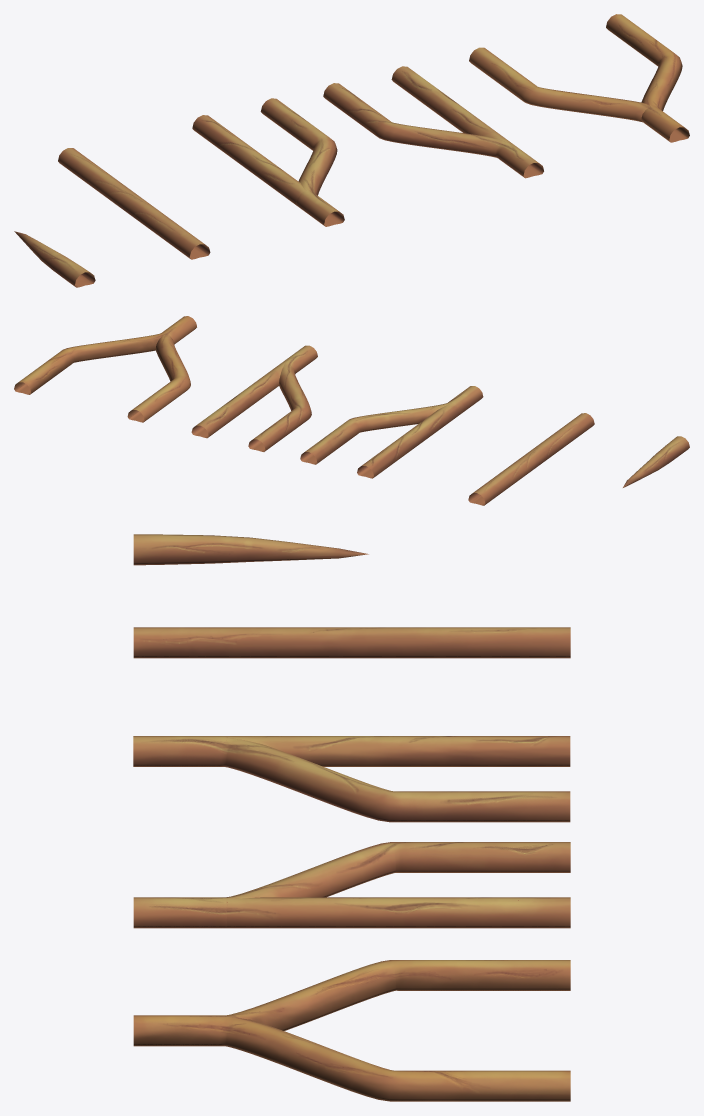
Rendered from Roots.fbx.
3 views of the same model, one above another, from view 1: azimuth 30°, elevation 25°; view 2: azimuth 150°, elevation 25°; view 3: azimuth 270°, elevation 25° (orthographic). The views are drawn at different scales.
Visible parts, largest first — view 1: BezierCurve.013, BezierCurve.003, BezierCurve.002, BezierCurve.001, BezierCurve.005; view 2: BezierCurve.013, BezierCurve.002, BezierCurve.003, BezierCurve.001, BezierCurve.005; view 3: BezierCurve.013, BezierCurve.003, BezierCurve.002, BezierCurve.001, BezierCurve.005.
Boxes of the visible parts, <box> form: BezierCurve.013: <box>469,14,689,142</box>; BezierCurve.003: <box>323,66,543,178</box>; BezierCurve.002: <box>192,98,344,226</box>; BezierCurve.001: <box>58,148,210,259</box>; BezierCurve.005: <box>14,231,95,287</box>; BezierCurve.013: <box>14,316,196,422</box>; BezierCurve.002: <box>300,386,483,478</box>; BezierCurve.003: <box>191,345,317,451</box>; BezierCurve.001: <box>468,413,594,505</box>; BezierCurve.005: <box>623,436,689,487</box>; BezierCurve.013: <box>133,960,570,1101</box>; BezierCurve.003: <box>133,842,570,928</box>; BezierCurve.002: <box>133,736,570,822</box>; BezierCurve.001: <box>133,627,570,658</box>; BezierCurve.005: <box>133,534,368,565</box>.
Bounding box in the file's own units: 11986 × 228 × 4001.
